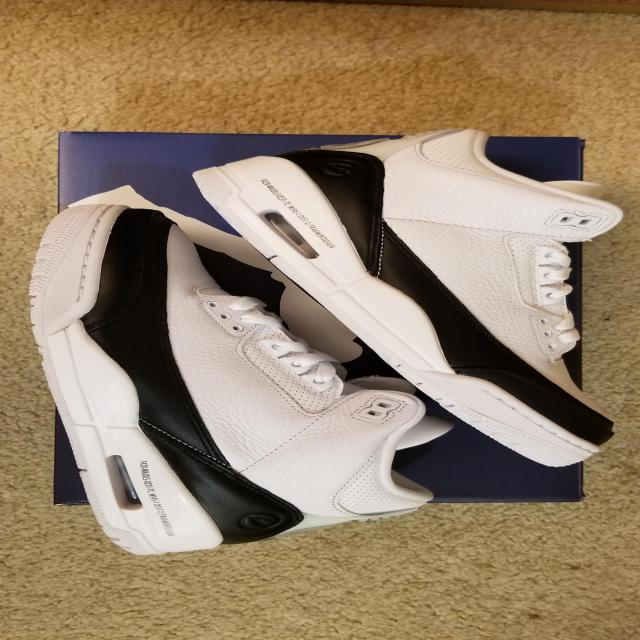shoe: (23, 200, 441, 559), (195, 130, 628, 468)
